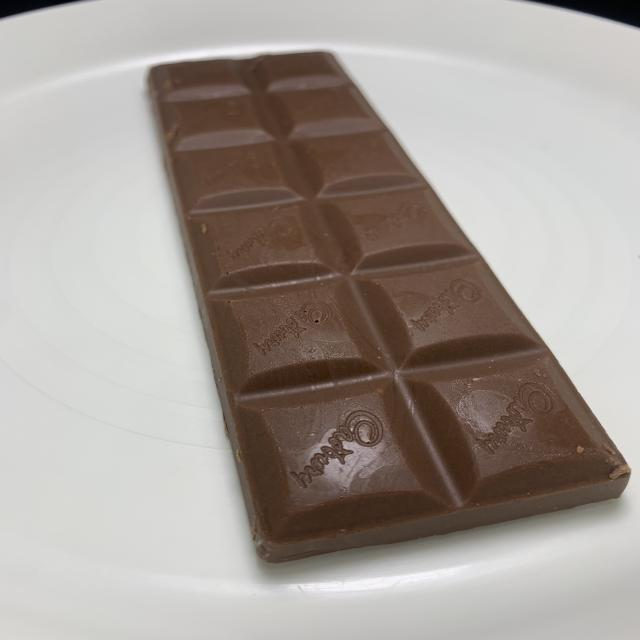Chocolate: (150, 46, 640, 573)
